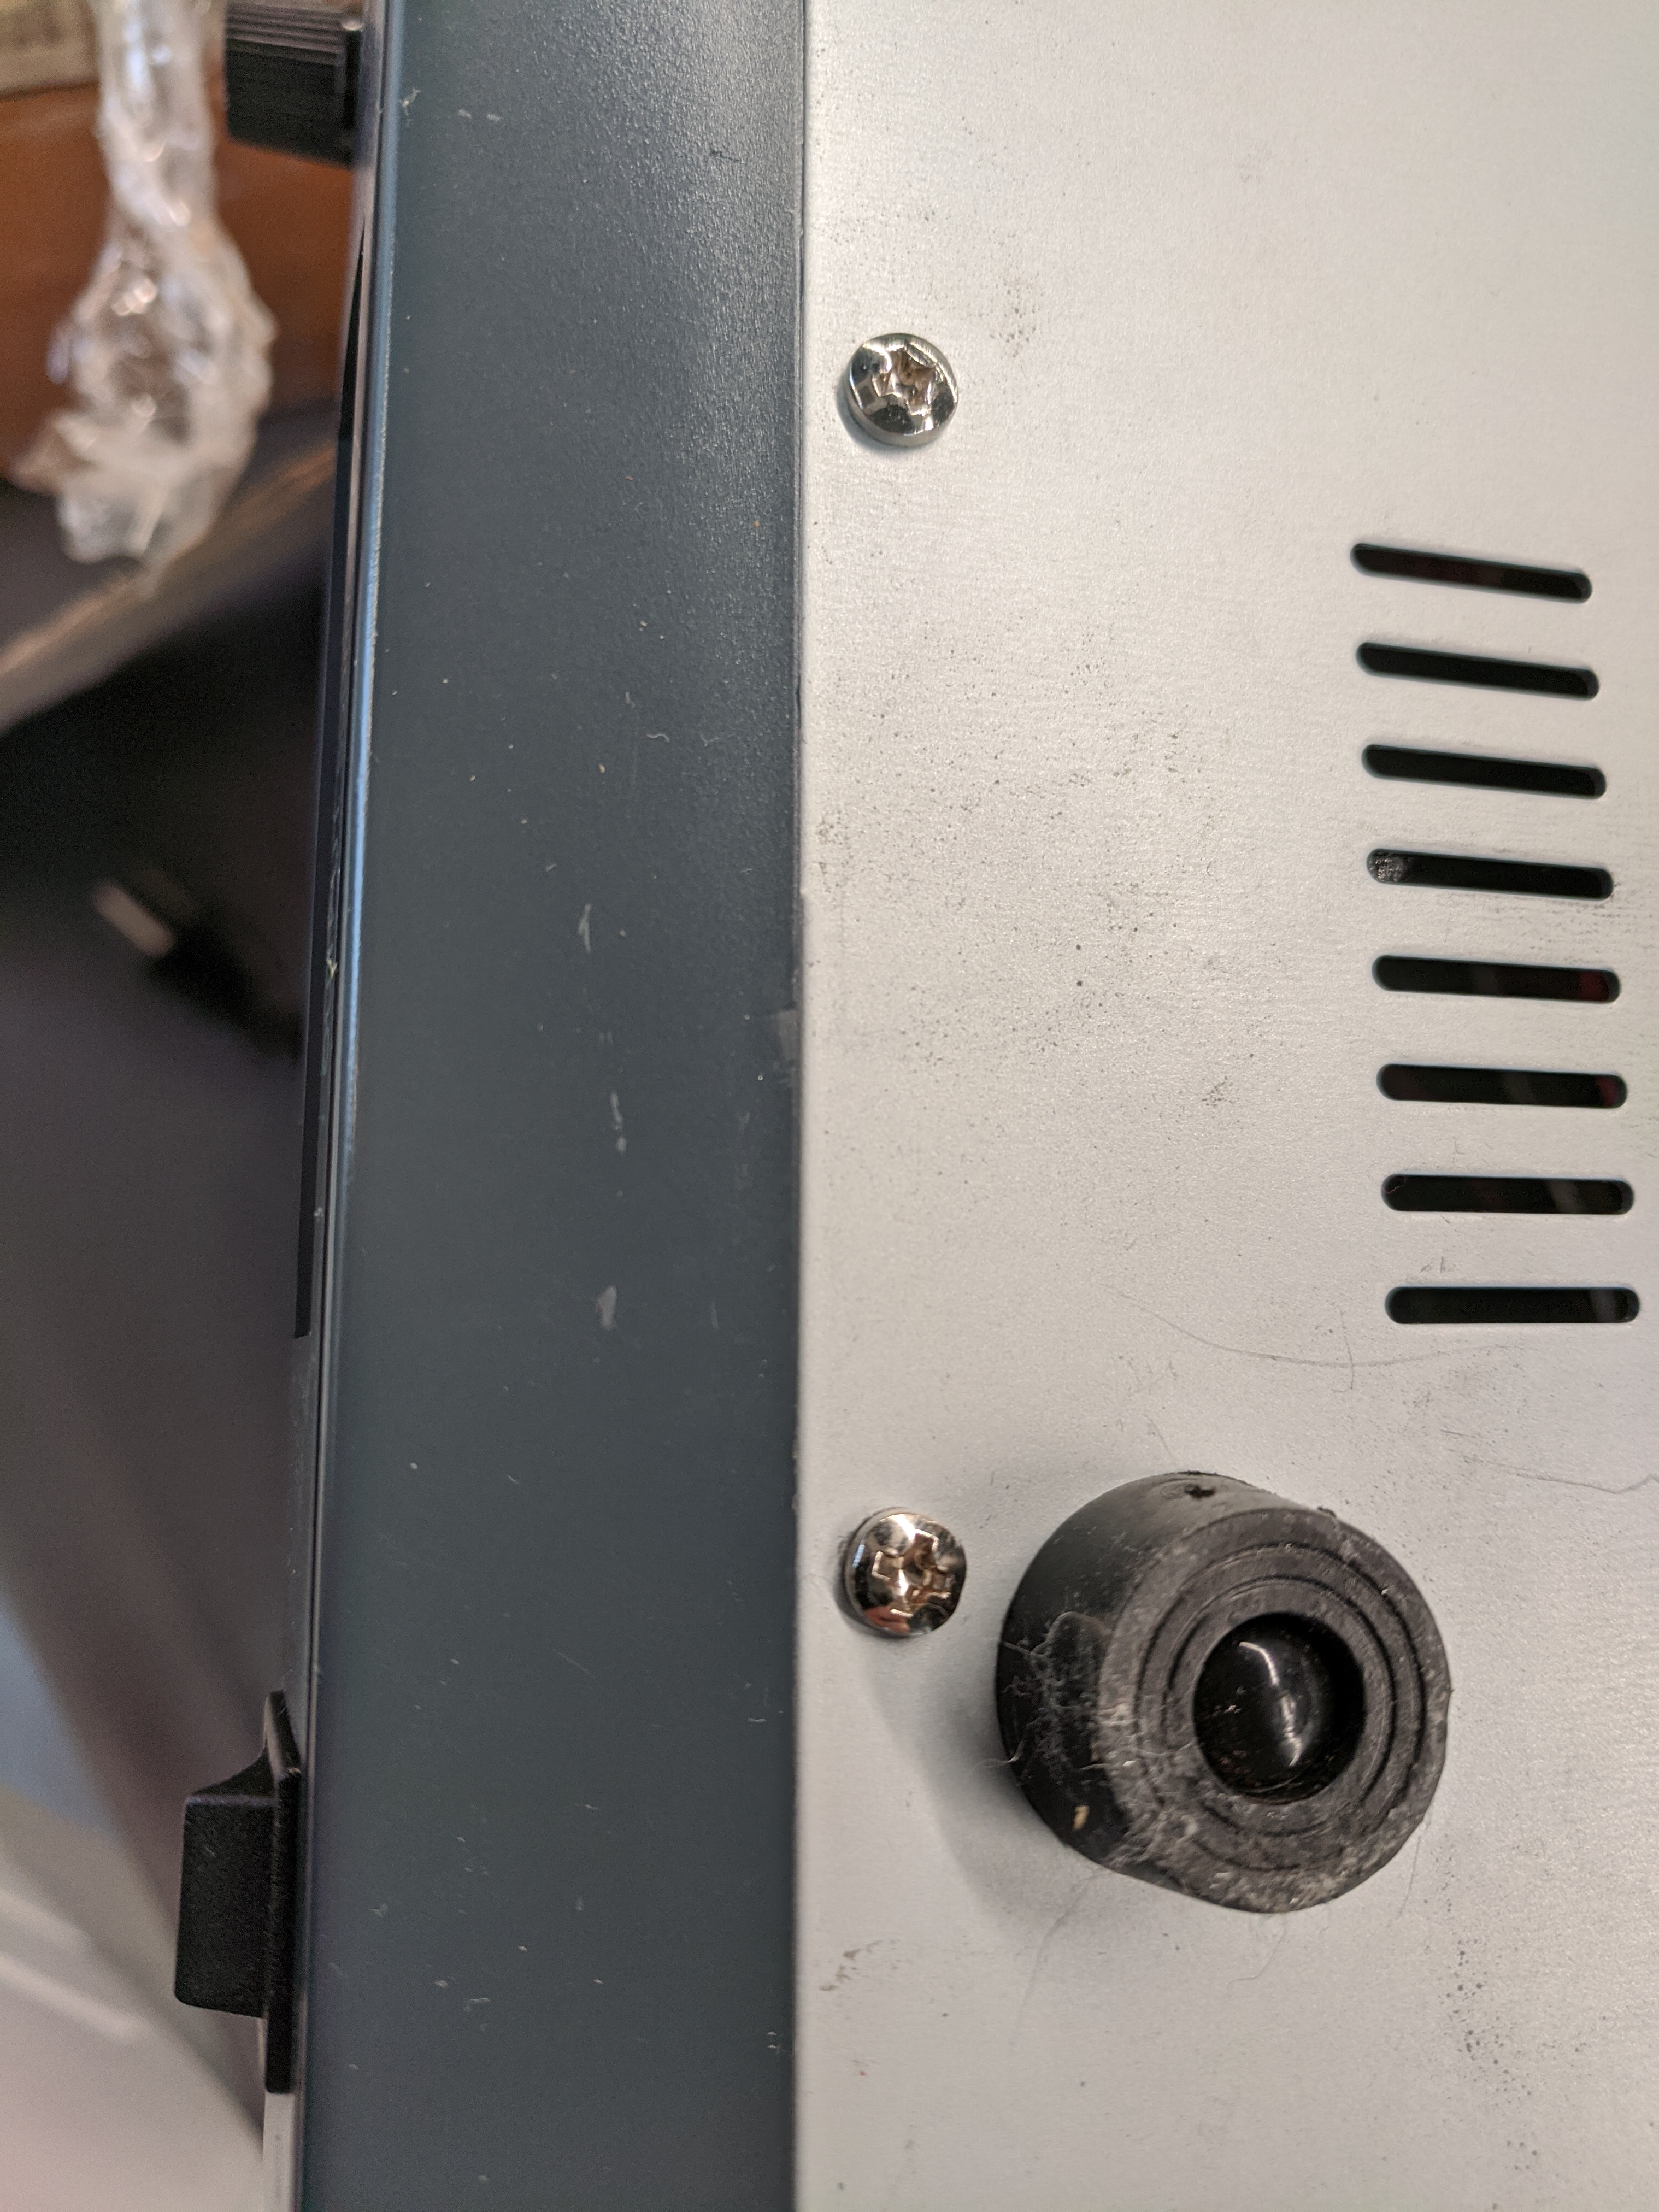cross_recessed_screw: (835, 1491, 978, 1649), (833, 317, 967, 453)
